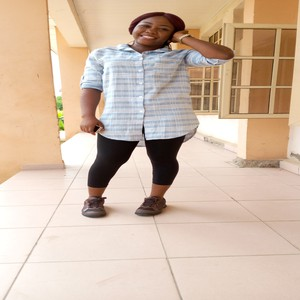Fulokoja_female_student: (86, 12, 201, 213)
